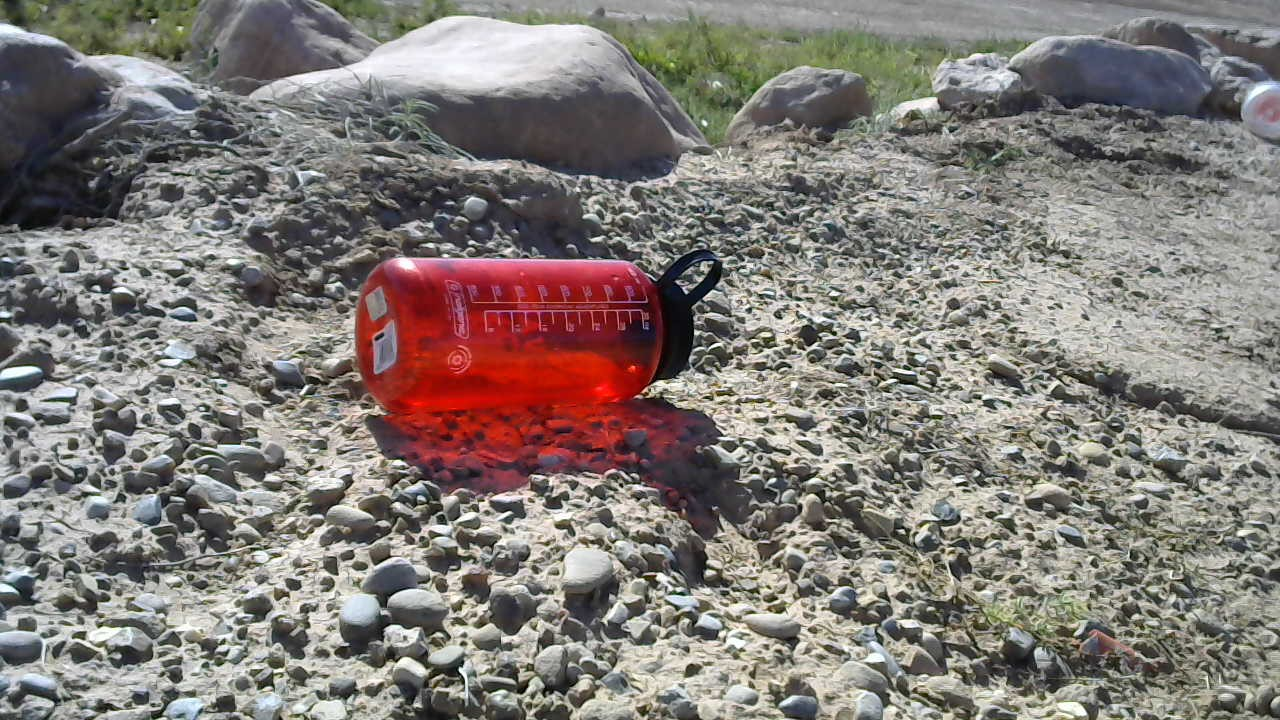bottle: (345, 229, 734, 421)
